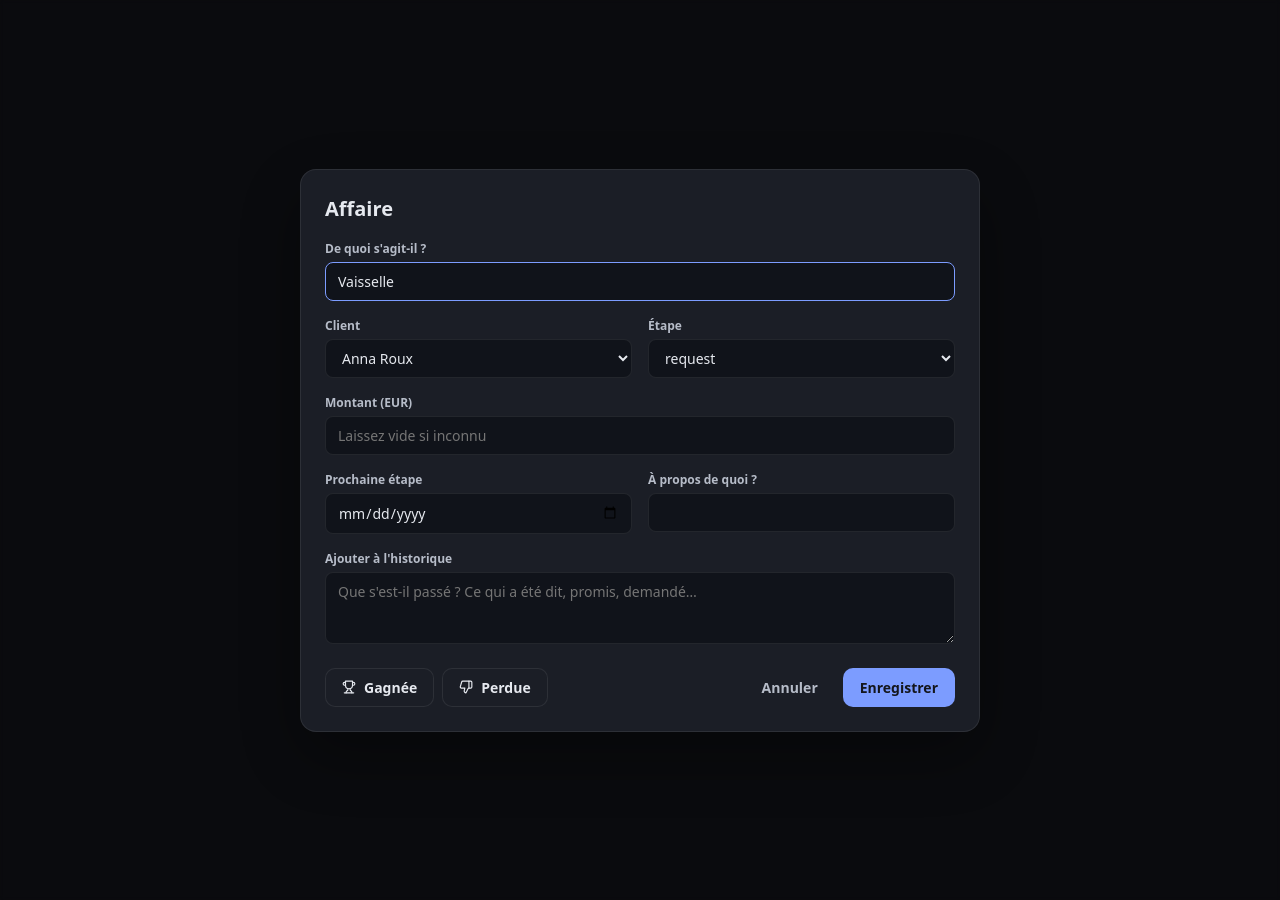
DealDialog: a next step for someone who said NO › keeps the step in the book and never rings the agenda, and says why
Type "2026-10-05" into the date field labelled "Prochaine étape".
click(478, 513); type("2026-10-05")  # box [325,492,632,534]
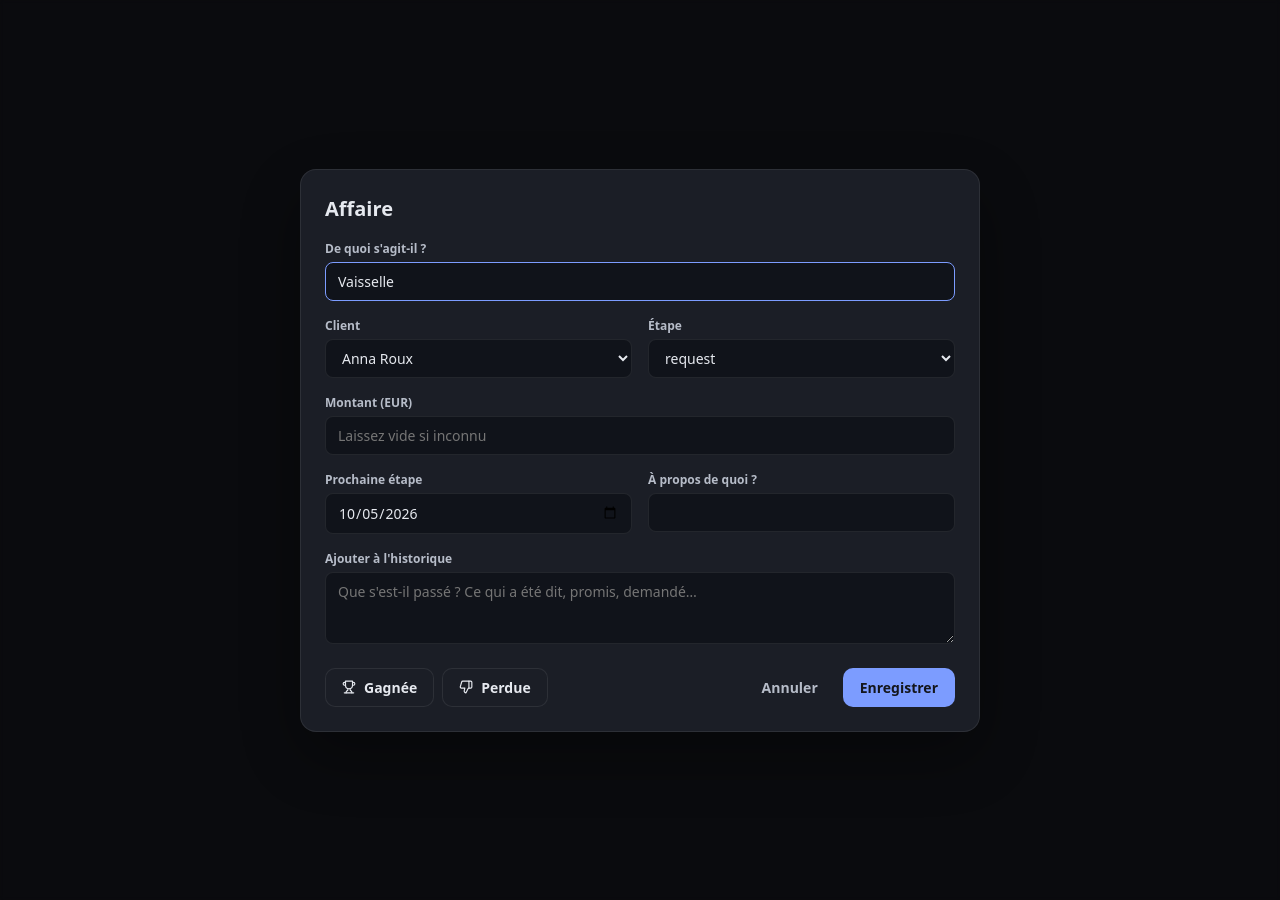
Click the button "Enregistrer".
click(899, 687)  # box [843,668,955,706]
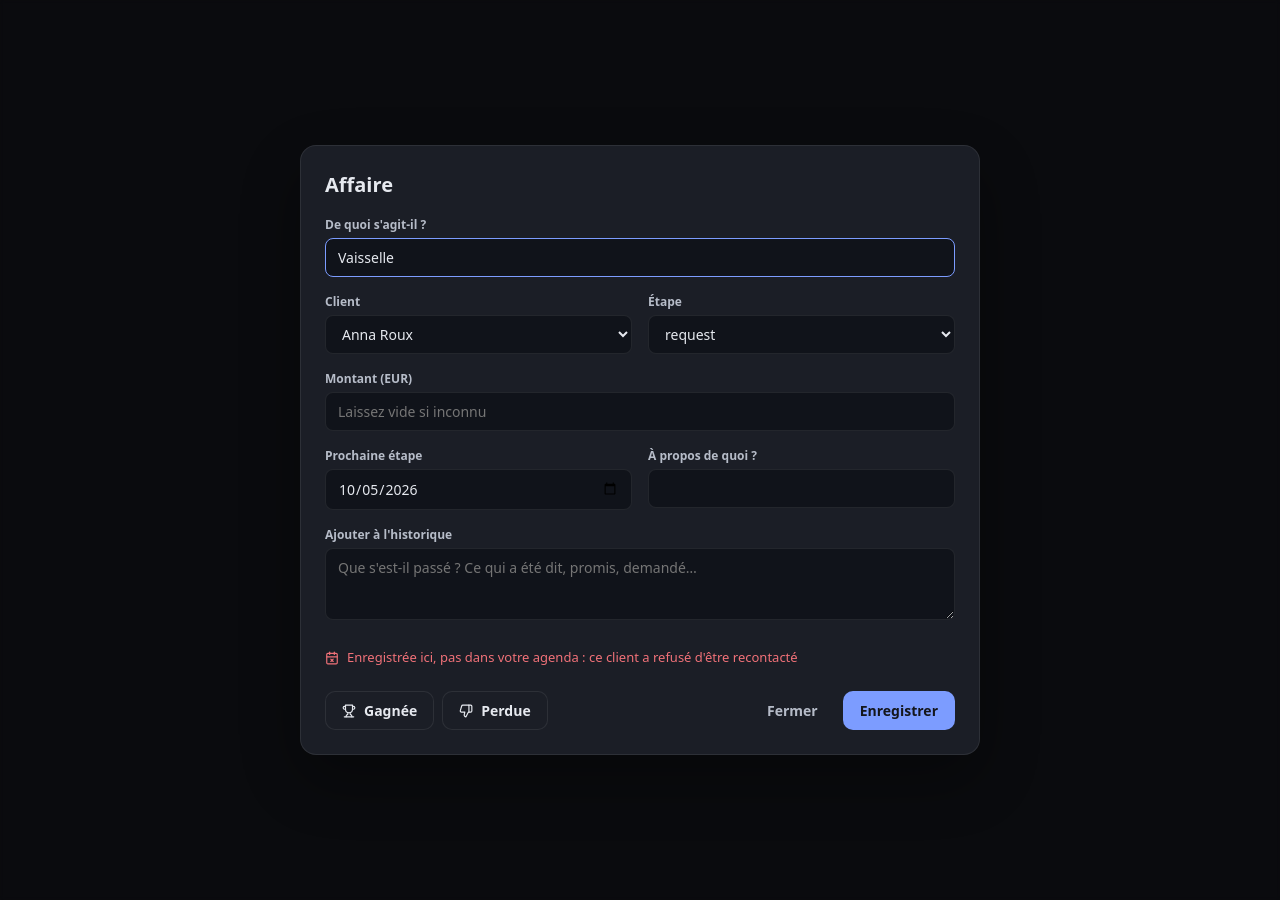
Now the text "Enregistrée ici, pas dans votre agenda : ce client a refusé d'être recontacté" is shown, box [325,648,798,666]
